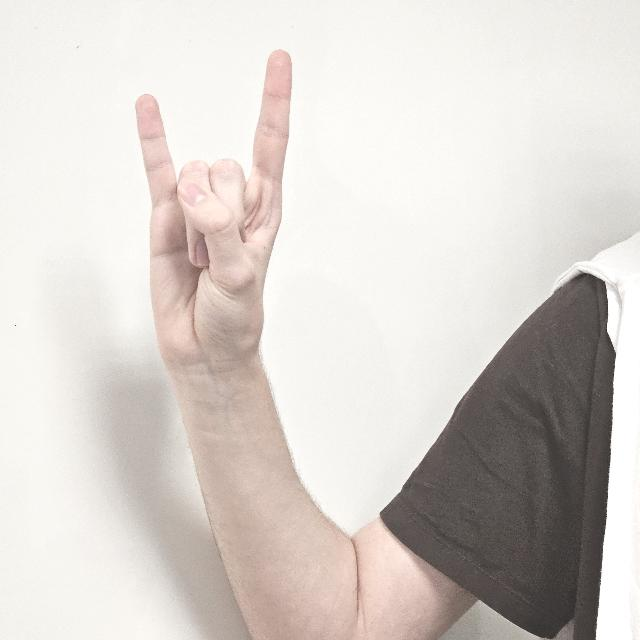L: (134, 48, 290, 384)
